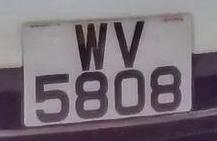0: (112, 64, 149, 120)
5: (31, 65, 74, 128)
8: (71, 67, 111, 123), (149, 58, 185, 119)
V: (111, 15, 149, 73)
W: (71, 21, 120, 74)
